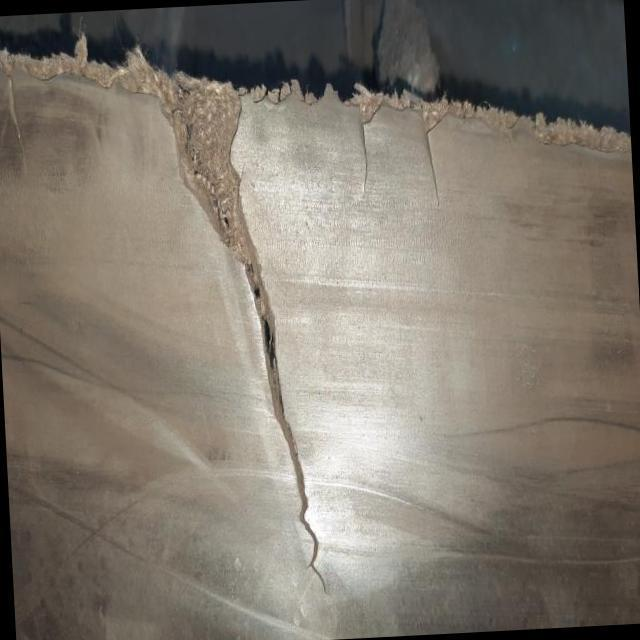Tear: (141, 74, 343, 603), (346, 103, 390, 195), (413, 111, 455, 206)
